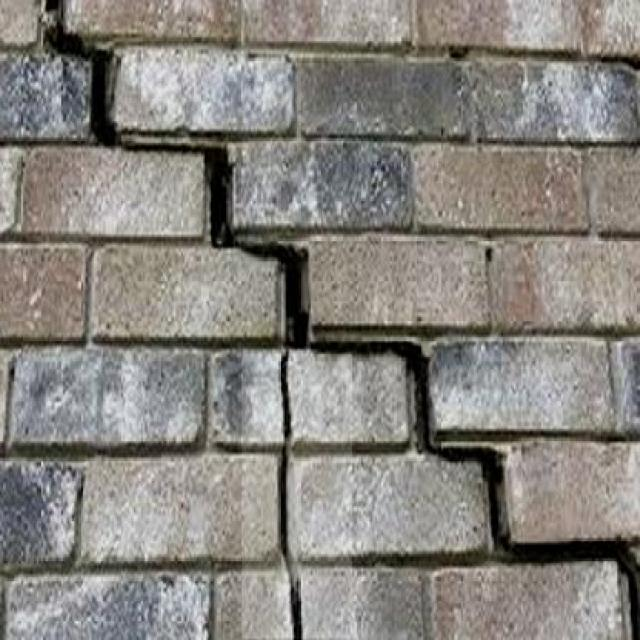Crack: (38, 5, 306, 352), (354, 335, 640, 635), (250, 365, 342, 640)
